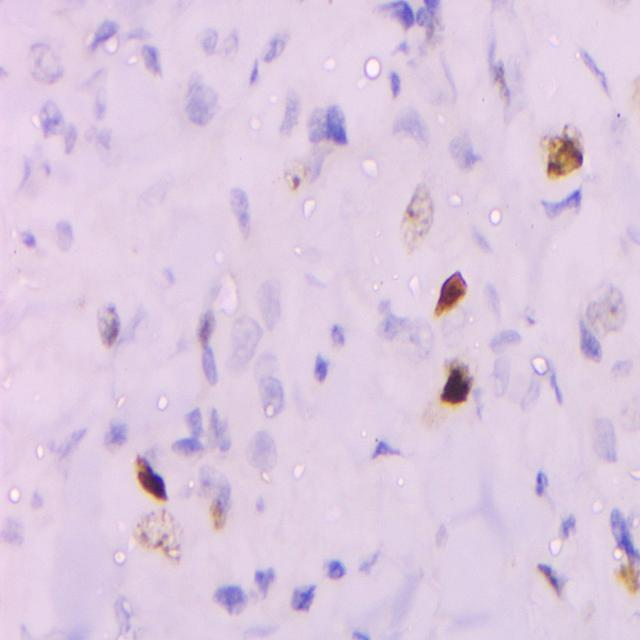Healthy cell: (176, 63, 220, 129), (209, 576, 258, 625), (246, 554, 283, 612), (370, 299, 416, 345), (255, 373, 299, 421), (225, 310, 260, 370), (226, 193, 269, 241), (588, 408, 622, 468), (449, 123, 485, 173), (310, 108, 350, 146), (32, 39, 66, 83), (112, 599, 148, 640), (614, 215, 640, 270), (99, 409, 135, 448), (255, 282, 283, 330), (248, 433, 278, 476), (199, 347, 222, 390), (314, 548, 344, 580), (309, 353, 337, 387), (40, 100, 65, 138)
cancer-cell-QiJm: (482, 43, 526, 124), (132, 500, 186, 565), (580, 280, 634, 341), (282, 142, 333, 196), (540, 126, 584, 182), (434, 259, 472, 322), (403, 178, 432, 256), (417, 385, 458, 440), (91, 300, 128, 356), (129, 455, 171, 503), (417, 0, 446, 58), (279, 582, 323, 620), (440, 356, 468, 405), (613, 550, 640, 600), (195, 299, 219, 346), (206, 490, 229, 536), (532, 562, 538, 614)
